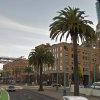Palm tree: (46, 3, 93, 86)
